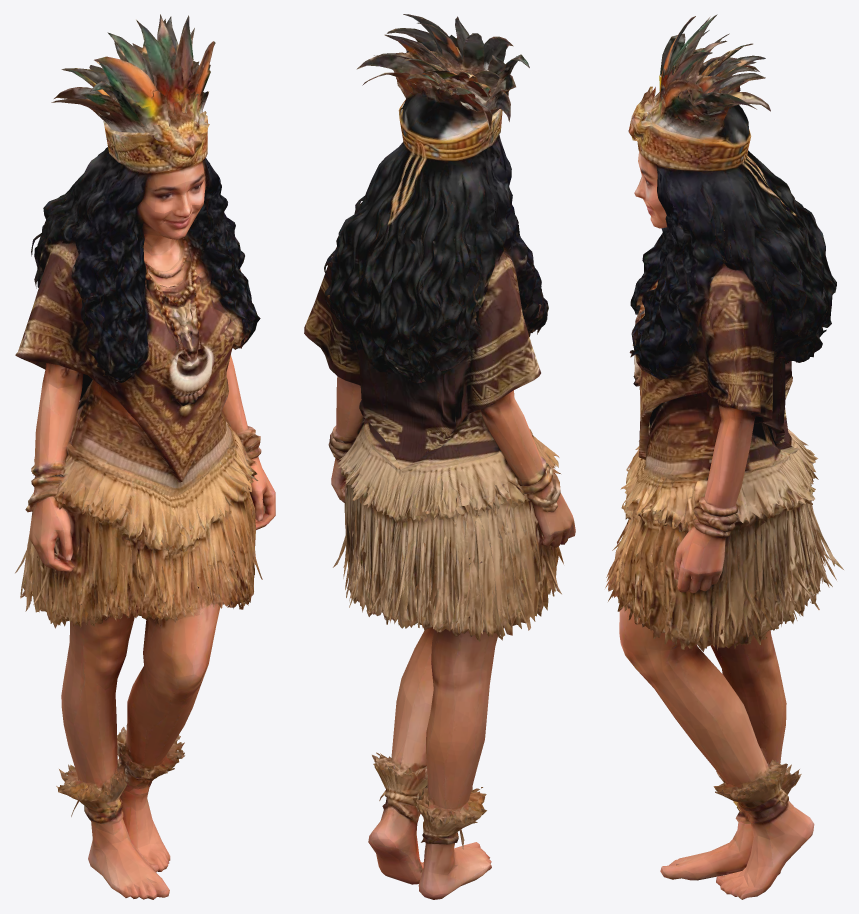
Rendered from busana-papua.glb.
3 views of the same model, side by side, from view 1: azimuth 30°, elevation 25°; view 2: azimuth 150°, elevation 25°; view 3: azimuth 270°, elevation 25° (orthographic).
Parts seen in each view (by area): view 1: Mesh_0_modddif_material_0_0; view 2: Mesh_0_modddif_material_0_0; view 3: Mesh_0_modddif_material_0_0.
Part boxes in pixels (bbox=[...]): Mesh_0_modddif_material_0_0: bbox=[15, 14, 275, 899]; Mesh_0_modddif_material_0_0: bbox=[304, 14, 575, 899]; Mesh_0_modddif_material_0_0: bbox=[605, 14, 843, 899].
Bounding box in the file's own units: 0.2917 × 1 × 0.2526.
Materials: 1 (1 with a texture image).
